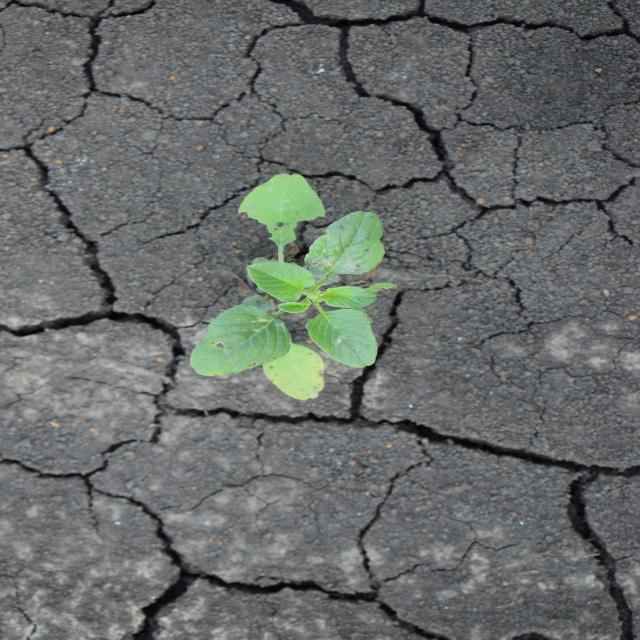PalmerAmaranth: (187, 172, 400, 402)
